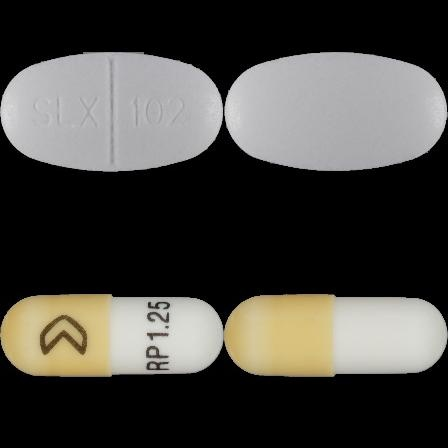54868-5889: (0, 0, 224, 224)
